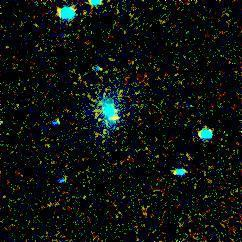star: (100, 103, 130, 133)
